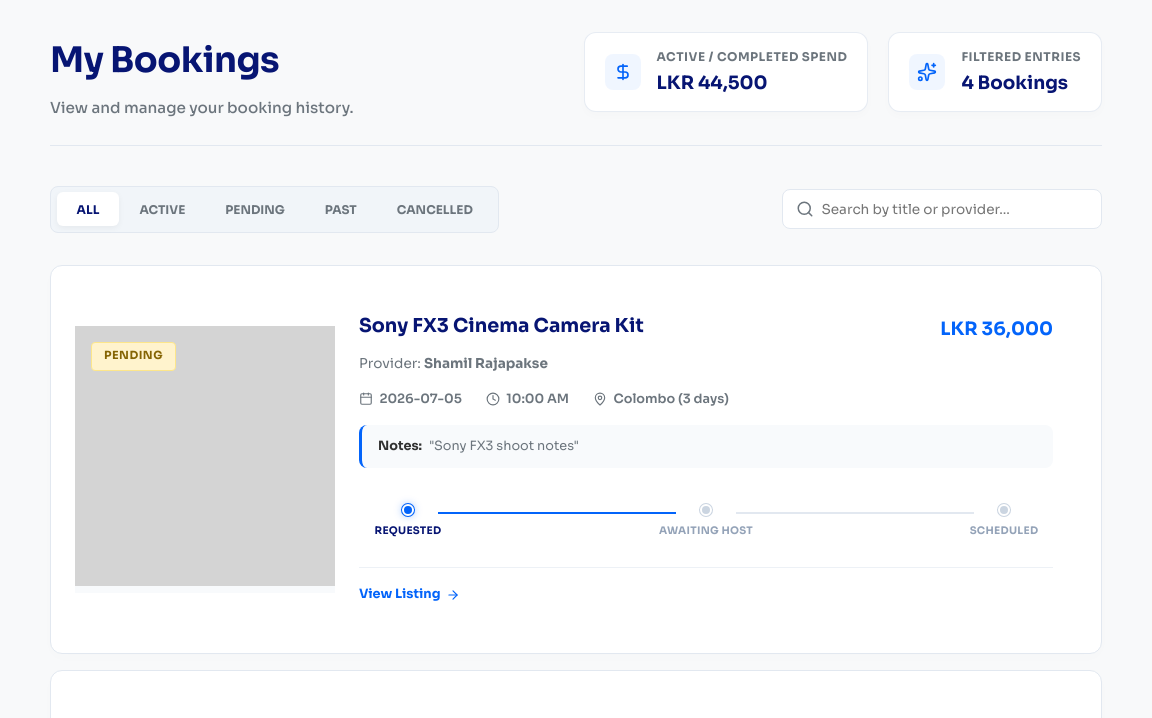
Scenario: BookingHistoryPage › should filter only active (confirmed) bookings when active tab is selected
Click the tab with test id "tab-active". click: (162, 209)
box: [119,192,205,226]
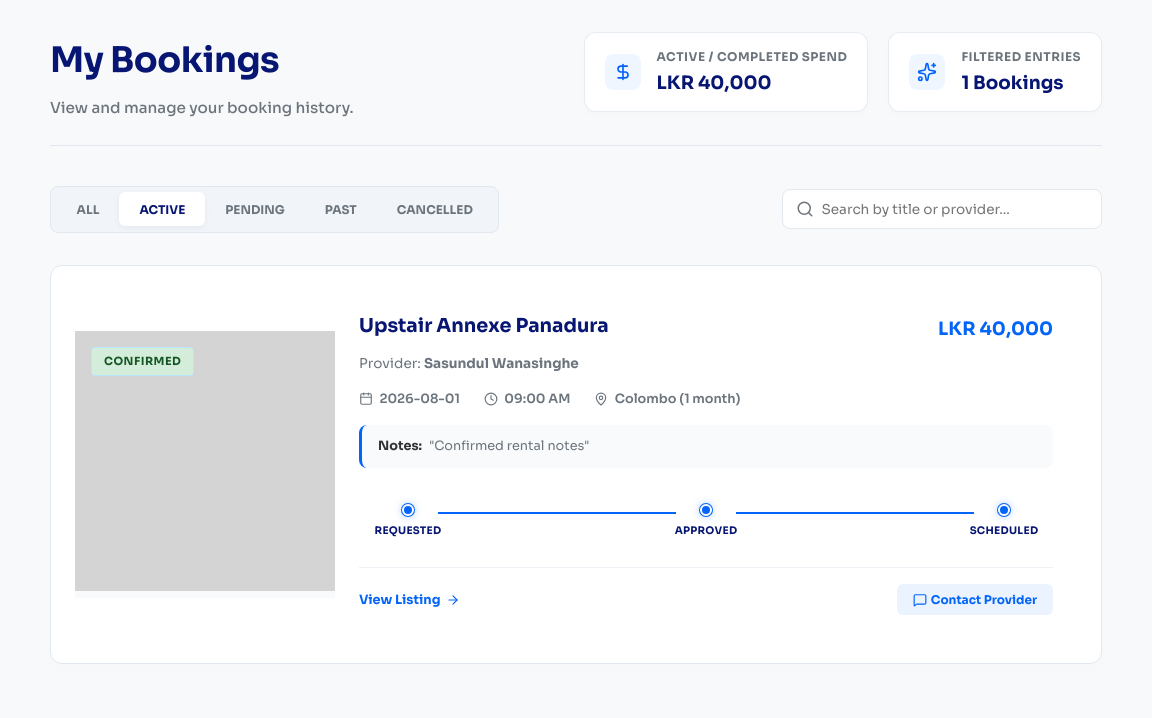
Check: the heading "Upstair Annexe Panadura" is shown, box [359,314,609,339]
Check: the heading "Sony FX3 Cinema Camera Kit" is gone
